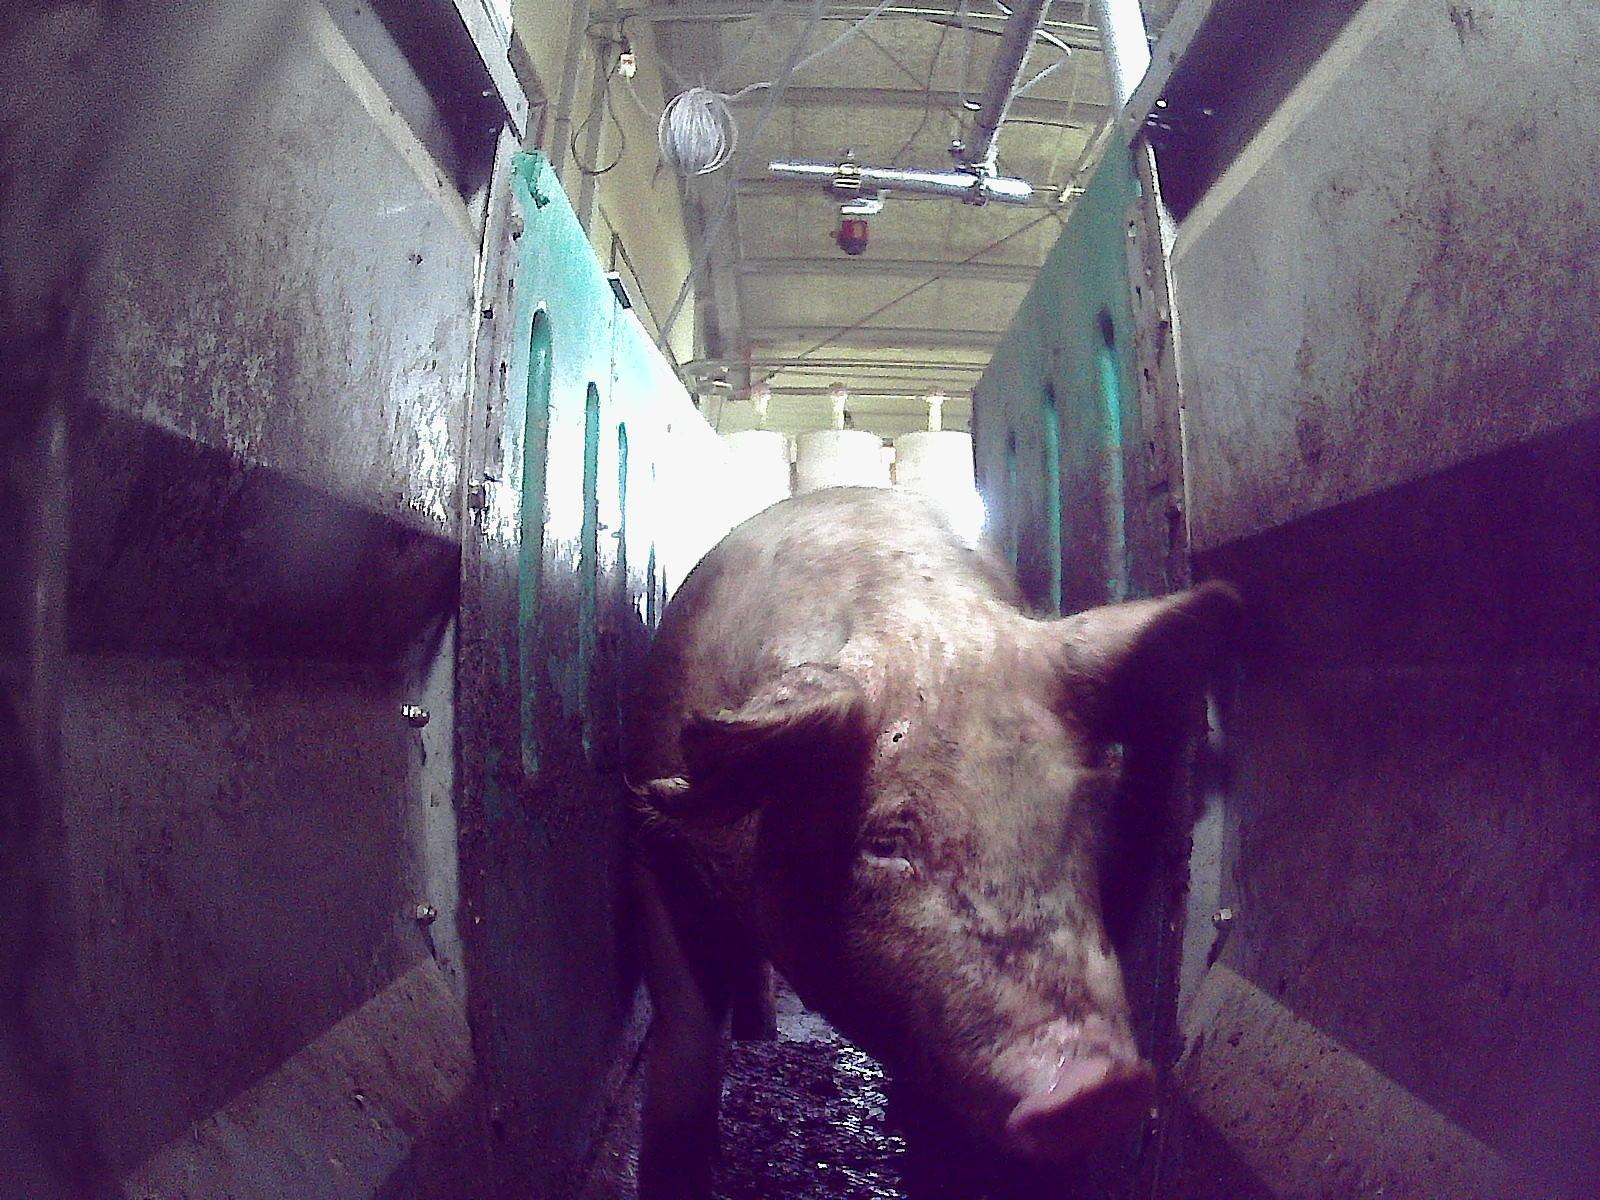Face: (767, 686, 1157, 1167)
